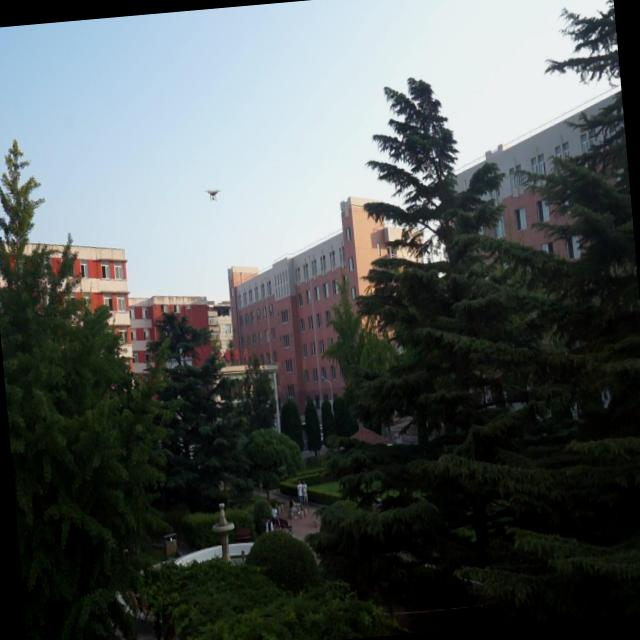drone: (204, 183, 222, 206)
